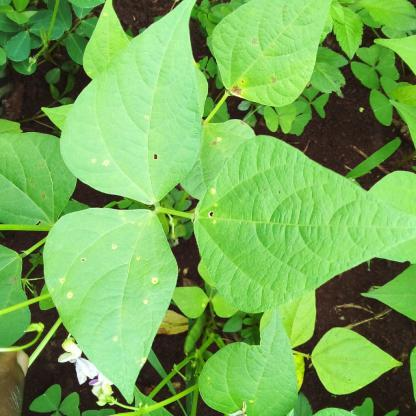Beans_Rust: (197, 140, 414, 310), (66, 0, 200, 202), (48, 206, 176, 374), (209, 0, 324, 104), (200, 319, 296, 416), (198, 121, 255, 181)
